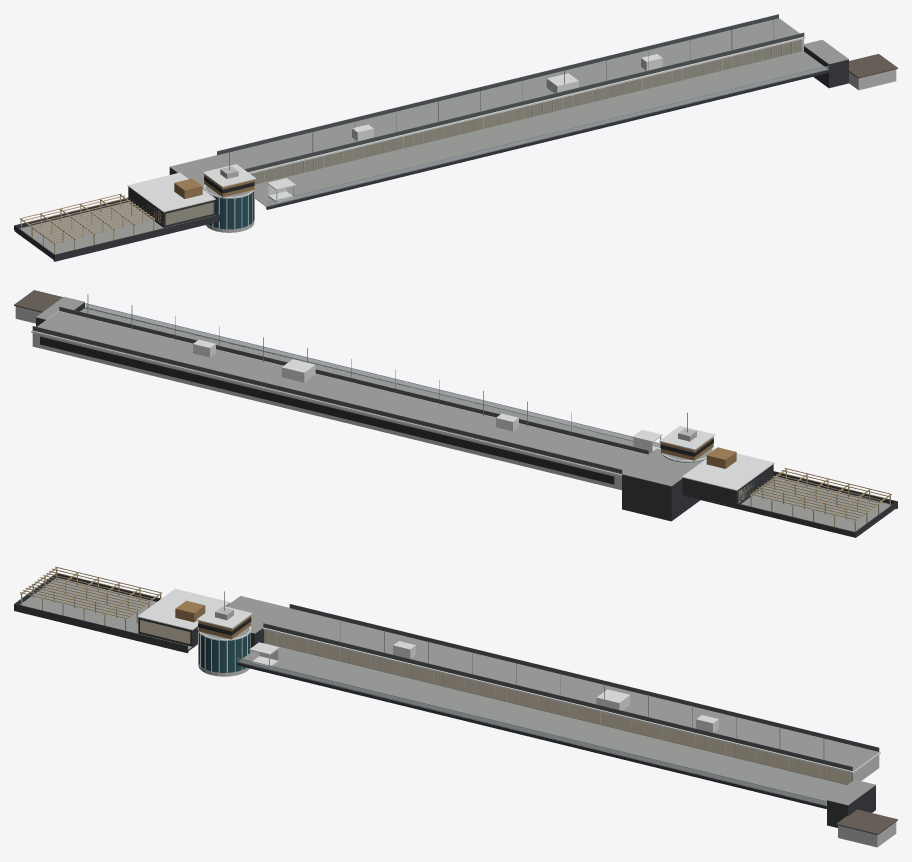
Rendered from zan_pit_upper.glb.
3 renders of one model, top to bottom at view 1: azimuth 30°, elevation 25°; view 2: azimuth 150°, elevation 25°; view 3: azimuth 330°, elevation 25°, orthographic. The views are drawn at different scales.
Parts seen in each view (by area): view 1: zandvoort-pit-building; view 2: zandvoort-pit-building; view 3: zandvoort-pit-building.
Boxes of the visible parts, box(x1,y1,x2,y2) form: zandvoort-pit-building: box(14, 14, 897, 261); zandvoort-pit-building: box(14, 290, 897, 537); zandvoort-pit-building: box(14, 566, 897, 847).
Size of the model in its own units: 231 by 18.7 by 29.15.
